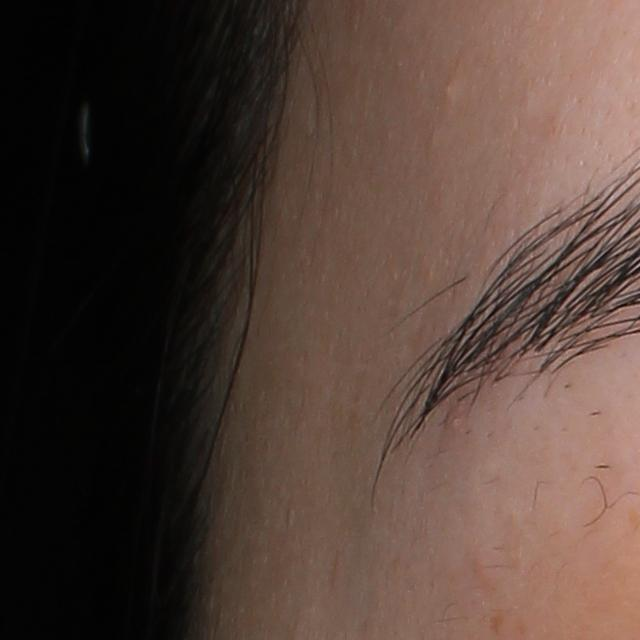comedo: (443, 80, 457, 98)
melasma: (488, 610, 506, 636)
